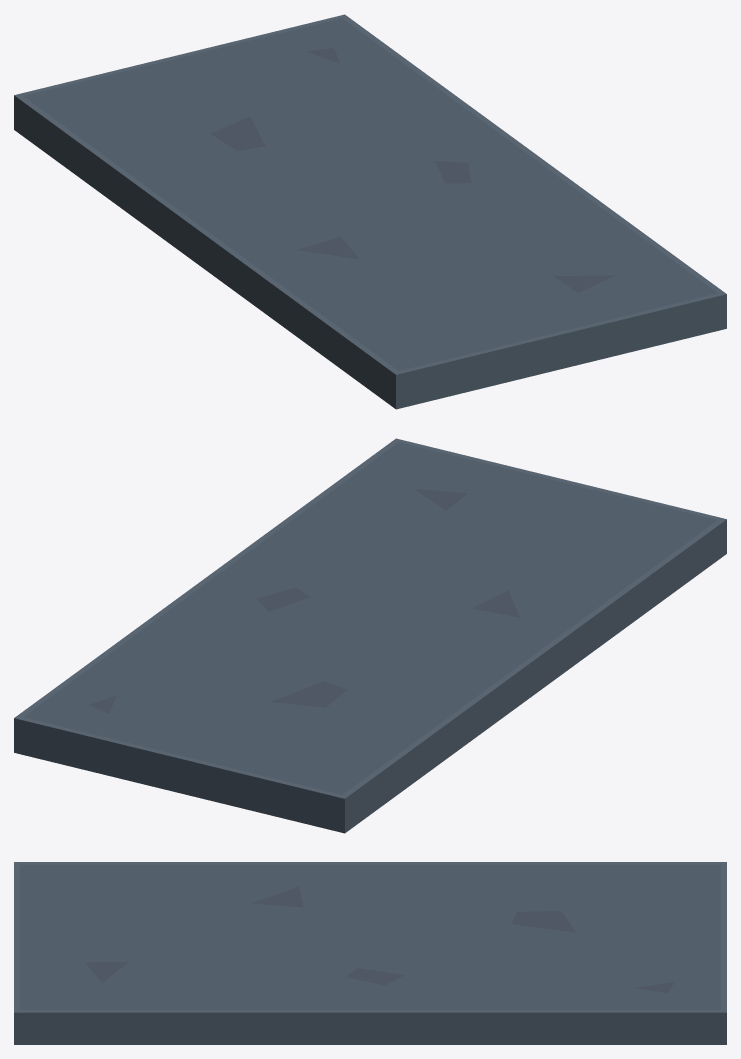
File: ConcrateSlabs_C_3_3.fbx
3 views of the same model, one above another, from view 1: azimuth 30°, elevation 25°; view 2: azimuth 150°, elevation 25°; view 3: azimuth 270°, elevation 25° (orthographic). The views are drawn at different scales.
Visible parts, largest first — view 1: ConcrateSlabs_C_3_3; view 2: ConcrateSlabs_C_3_3; view 3: ConcrateSlabs_C_3_3.
Part boxes in pixels (<box>): ConcrateSlabs_C_3_3: <box>14,14,726,409</box>; ConcrateSlabs_C_3_3: <box>14,438,726,833</box>; ConcrateSlabs_C_3_3: <box>14,862,726,1044</box>.
Bounding box in the file's own units: 400 × 40 × 800.
